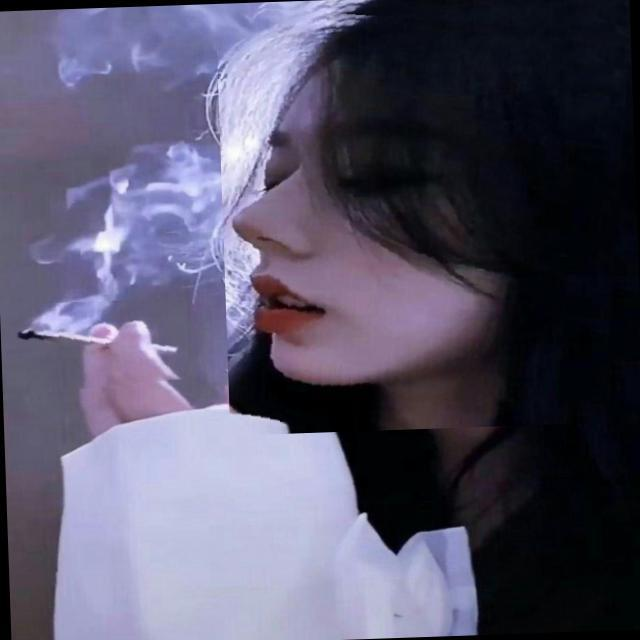cigarette: (2, 298, 190, 396)
